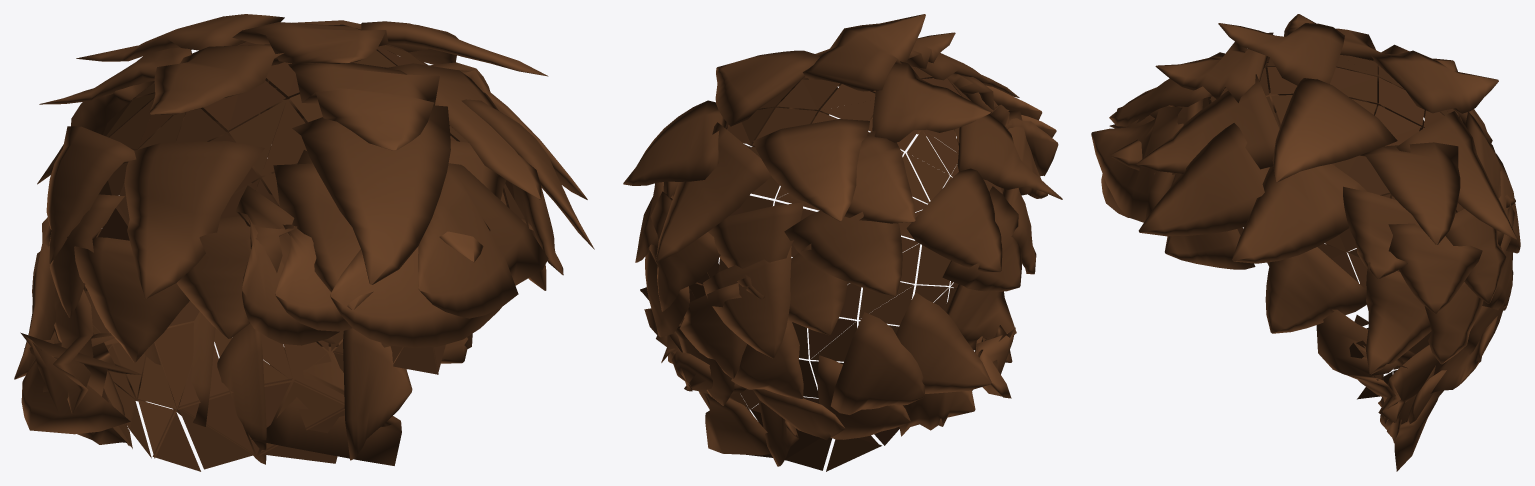
The model's file is kopf.haar.pixie.glb.
The picture shows the model from 3 angles, left to right: view 1: azimuth 30°, elevation 25°; view 2: azimuth 150°, elevation 25°; view 3: azimuth 270°, elevation 25°; orthographic projection. The views are drawn at different scales.
Parts seen in each view (by area): view 1: haar; view 2: haar; view 3: haar.
Boxes of the visible parts, x1,y1,x2,y2 form: haar: [14, 14, 594, 471]; haar: [623, 14, 1062, 471]; haar: [1091, 14, 1520, 471].
Bounding box in the file's own units: 0.209 × 0.2189 × 0.2192.
